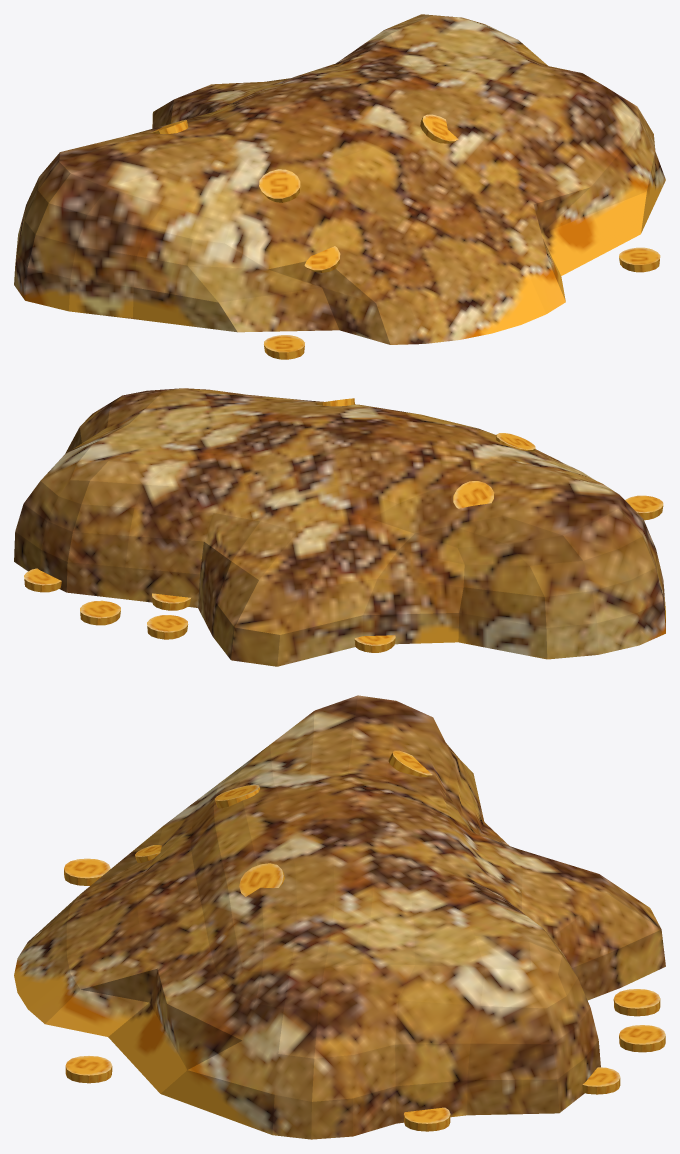
Rendered from Gold_local.obj.
3 renders of one model, top to bottom at view 1: azimuth 30°, elevation 25°; view 2: azimuth 150°, elevation 25°; view 3: azimuth 270°, elevation 25°, orthographic. The views are drawn at different scales.
Parts seen in each view (by area): view 1: Cube; view 2: Cube; view 3: Cube.
Part boxes in pixels (x1,y1,x2,y2): Cube: (14, 14, 665, 359); Cube: (14, 388, 665, 666); Cube: (14, 695, 665, 1139).
Size of the model in its own units: 3.36 by 0.68 by 2.73.
